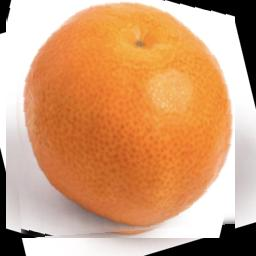Orange Fresh: (6, 0, 235, 238)
